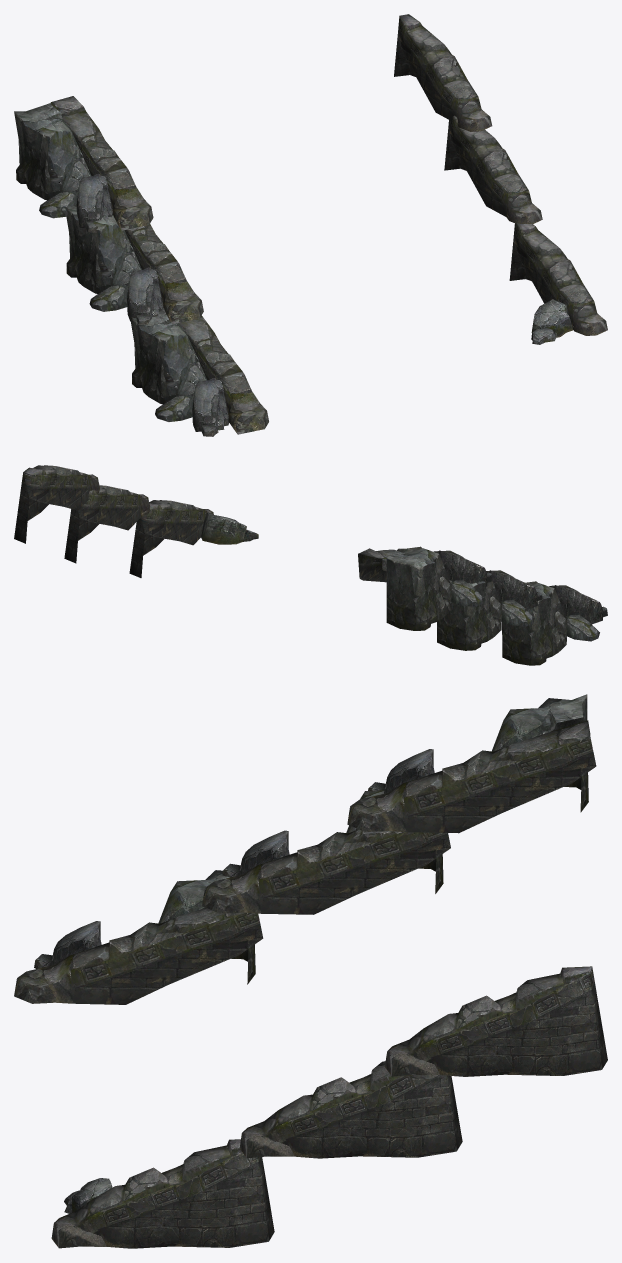
The picture shows the model from 3 angles, top to bottom: view 1: azimuth 30°, elevation 25°; view 2: azimuth 150°, elevation 25°; view 3: azimuth 270°, elevation 25°; orthographic projection. The views are drawn at different scales.
Parts seen in each view (by area): view 1: A_ST_12; view 2: A_ST_12; view 3: A_ST_12.
Part boxes in pixels (left/top/right/bottom): A_ST_12: left=14, top=14, right=607, bottom=436; A_ST_12: left=14, top=465, right=607, bottom=665; A_ST_12: left=14, top=694, right=607, bottom=1248.
Size of the model in its own units: 595 by 248 by 496.
